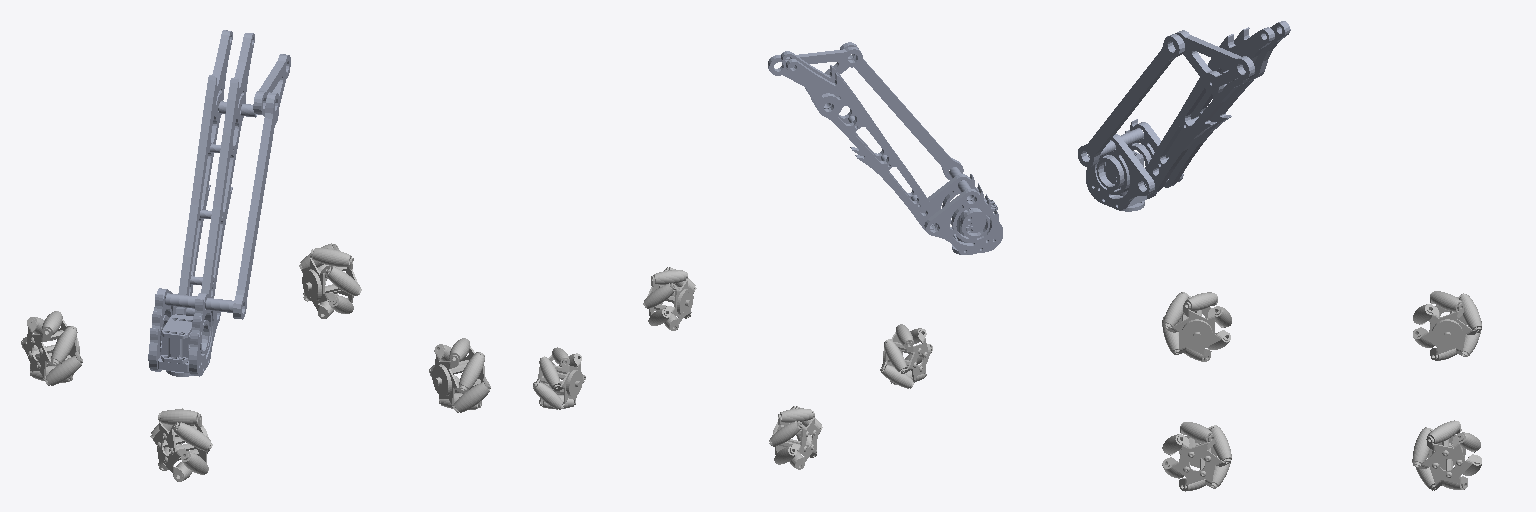
The robot description file, URDF, robot "robot":
<robot
  name="robot">
  <link
    name="base_link">
    <inertial>
      <origin
        xyz="-0.000264760661064783 0.00664648963349924 0.000264762912808713"
        rpy="0 0 0" />
      <mass
        value="1.15919256315212" />
      <inertia
        ixx="0.0067094003476943"
        ixy="-2.34510261921351E-06"
        ixz="2.76425784672043E-05"
        iyy="0.0107618075316179"
        iyz="2.34511530954424E-06"
        izz="0.00471279526237124" />
    </inertial>
    <visual>
      <origin
        xyz="0 0 0"
        rpy="0 0 0" />
      <geometry>
        <mesh
          filename="package://robot/meshes/base_link.STL" />
      </geometry>
      <material
        name="">
        <color
          rgba="1 1 1 0.3" />
      </material>
    </visual>
    <collision>
      <origin
        xyz="0 0 0"
        rpy="0 0 0" />
      <geometry>
        <mesh
          filename="package://robot/meshes/base_link_col.STL" />
      </geometry>
    </collision>
  </link>
  <link
    name="FLWheel">
    <inertial>
      <origin
        xyz="0.00388945308315219 4.79531763399738E-06 -1.38067043967127E-06"
        rpy="0 0 0" />
      <mass
        value="0.0736541264322109" />
      <inertia
        ixx="2.77194970489744E-05"
        ixy="-3.49012075170458E-09"
        ixz="9.77296011958984E-10"
        iyy="1.93054417330485E-05"
        iyz="-8.00993708107148E-10"
        izz="1.93080458554619E-05" />
    </inertial>
    <visual>
      <origin
        xyz="0 0 0"
        rpy="0 0 0" />
      <geometry>
        <mesh
          filename="package://robot/meshes/FLWheel.STL" />
      </geometry>
      <material
        name="">
        <color
          rgba="0.752941176470588 0.752941176470588 0.752941176470588 1" />
      </material>
    </visual>
    <collision>
      <origin
        xyz="0 0 0"
        rpy="0 0 0" />
      <geometry>
        <mesh
          filename="package://robot/meshes/FLWheel_col.STL" />
      </geometry>
    </collision>
  </link>
  <joint
    name="FLWheelCont"
    type="continuous">
    <origin
      xyz="0.1171 -0.099064 -0.040162"
      rpy="1.5708 0 0" />
    <parent
      link="base_link" />
    <child
      link="FLWheel" />
    <axis
      xyz="1 0 0" />
  </joint>
  <link
    name="FRWheel">
    <inertial>
      <origin
        xyz="-0.238089456274567 3.97925711011909E-06 2.9933165490853E-06"
        rpy="0 0 0" />
      <mass
        value="0.0736541281508339" />
      <inertia
        ixx="2.77194939807717E-05"
        ixy="2.89824828067423E-09"
        ixz="2.20292420934118E-09"
        iyy="1.93063135407214E-05"
        iyz="1.46689816627202E-09"
        izz="1.93071731398088E-05" />
    </inertial>
    <visual>
      <origin
        xyz="0 0 0"
        rpy="0 0 0" />
      <geometry>
        <mesh
          filename="package://robot/meshes/FRWheel.STL" />
      </geometry>
      <material
        name="">
        <color
          rgba="0.752941176470588 0.752941176470588 0.752941176470588 1" />
      </material>
    </visual>
    <collision>
      <origin
        xyz="0 0 0"
        rpy="0 0 0" />
      <geometry>
        <mesh
          filename="package://robot/meshes/FRWheel_col.STL" />
      </geometry>
    </collision>
  </link>
  <joint
    name="FRWheelCont"
    type="continuous">
    <origin
      xyz="0.1171 -0.09906355201 -0.0401615"
      rpy="1.5707963267949 0 0" />
    <parent
      link="base_link" />
    <child
      link="FRWheel" />
    <axis
      xyz="1 0 0" />
  </joint>
  <link
    name="BLWheel">
    <inertial>
      <origin
        xyz="0.00388945627456712 3.97925711014685E-06 -2.99331654884938E-06"
        rpy="0 0 0" />
      <mass
        value="0.0736541281508339" />
      <inertia
        ixx="2.77194939807717E-05"
        ixy="-2.89824828068812E-09"
        ixz="2.2029242093398E-09"
        iyy="1.93063135407214E-05"
        iyz="-1.46689816627361E-09"
        izz="1.93071731398088E-05" />
    </inertial>
    <visual>
      <origin
        xyz="0 0 0"
        rpy="0 0 0" />
      <geometry>
        <mesh
          filename="package://robot/meshes/BLWheel.STL" />
      </geometry>
      <material
        name="">
        <color
          rgba="0.752941176470588 0.752941176470588 0.752941176470588 1" />
      </material>
    </visual>
    <collision>
      <origin
        xyz="0 0 0"
        rpy="0 0 0" />
      <geometry>
        <mesh
          filename="package://robot/meshes/BLWheel_col.STL" />
      </geometry>
    </collision>
  </link>
  <joint
    name="BLWheelCont"
    type="continuous">
    <origin
      xyz="0.1171 0.0990635520100003 -0.0401615"
      rpy="1.5707963267949 0 0" />
    <parent
      link="base_link" />
    <child
      link="BLWheel" />
    <axis
      xyz="0 0 0" />
  </joint>
  <link
    name="BRWheel">
    <inertial>
      <origin
        xyz="-0.00636445308315207 4.79531763405289E-06 1.38067043978229E-06"
        rpy="0 0 0" />
      <mass
        value="0.0736541264322109" />
      <inertia
        ixx="2.77194970489743E-05"
        ixy="3.49012075168172E-09"
        ixz="9.77296011957692E-10"
        iyy="1.93054417330485E-05"
        iyz="8.00993708090894E-10"
        izz="1.93080458554619E-05" />
    </inertial>
    <visual>
      <origin
        xyz="0 0 0"
        rpy="0 0 0" />
      <geometry>
        <mesh
          filename="package://robot/meshes/BRWheel.STL" />
      </geometry>
      <material
        name="">
        <color
          rgba="0.752941176470588 0.752941176470588 0.752941176470588 1" />
      </material>
    </visual>
    <collision>
      <origin
        xyz="0 0 0"
        rpy="0 0 0" />
      <geometry>
        <mesh
          filename="package://robot/meshes/BRWheel_col.STL" />
      </geometry>
    </collision>
  </link>
  <joint
    name="BRWheelCont"
    type="continuous">
    <origin
      xyz="-0.114625 0.09906355201 -0.0401615"
      rpy="1.5707963267949 0 0" />
    <parent
      link="base_link" />
    <child
      link="BRWheel" />
    <axis
      xyz="1 0 0" />
  </joint>
  <link
    name="ArmYRot">
    <inertial>
      <origin
        xyz="0.000681964404144919 0.0310539448648574 -0.0127837530436466"
        rpy="0 0 0" />
      <mass
        value="0.571743531126574" />
      <inertia
        ixx="0.00130664575781196"
        ixy="2.01805366799632E-05"
        ixz="2.44737795526061E-06"
        iyy="0.00169284950533526"
        iyz="5.18921274682049E-05"
        izz="0.00108415740916047" />
    </inertial>
    <visual>
      <origin
        xyz="0 0 0"
        rpy="0 0 0" />
      <geometry>
        <mesh
          filename="package://robot/meshes/ArmYRot.STL" />
      </geometry>
      <material
        name="">
        <color
          rgba="0.666666666666667 0.694117647058824 0.764705882352941 1" />
      </material>
    </visual>
    <collision>
      <origin
        xyz="0 0 0"
        rpy="0 0 0" />
      <geometry>
        <mesh
          filename="package://robot/meshes/ArmYRot_col.STL" />
      </geometry>
    </collision>
  </link>
  <joint
    name="ArmYRotCont"
    type="continuous">
    <origin
      xyz="0 0 0.02266"
      rpy="1.5708 -4.2993E-16 -0.7854" />
    <parent
      link="base_link" />
    <child
      link="ArmYRot" />
    <axis
      xyz="0 -1 0" />
  </joint>
  <link
    name="ArmRot1">
    <inertial>
      <origin
        xyz="0.00851780401293389 0.0652472578677626 0.0130718014658456"
        rpy="0 0 0" />
      <mass
        value="0.247629627425225" />
      <inertia
        ixx="0.00083952384826181"
        ixy="5.66840333807547E-05"
        ixz="-2.23733251784933E-05"
        iyy="0.000383812124258634"
        iyz="0.000139676728992712"
        izz="0.000756587555727813" />
    </inertial>
    <visual>
      <origin
        xyz="0 0 0"
        rpy="0 0 0" />
      <geometry>
        <mesh
          filename="package://robot/meshes/ArmRot1.STL" />
      </geometry>
      <material
        name="">
        <color
          rgba="0.666666666666667 0.694117647058824 0.764705882352941 1" />
      </material>
    </visual>
    <collision>
      <origin
        xyz="0 0 0"
        rpy="0 0 0" />
      <geometry>
        <mesh
          filename="package://robot/meshes/ArmRot1_col.STL" />
      </geometry>
    </collision>
  </link>
  <joint
    name="ArmRot1Rev"
    type="revolute">
    <origin
      xyz="1.143E-05 0.057267 0.020728"
      rpy="-7.3956E-32 -1.1102E-16 1.7931E-21" />
    <parent
      link="ArmYRot" />
    <child
      link="ArmRot1" />
    <axis
      xyz="1 0 0" />
    <limit
      lower="0"
      upper="0"
      effort="10"
      velocity="1" />
  </joint>
  <link
    name="ArmRot2">
    <inertial>
      <origin
        xyz="0.00563335405046204 -0.0743495625672852 0.0774120463323625"
        rpy="0 0 0" />
      <mass
        value="0.274282093236145" />
      <inertia
        ixx="0.00181284257514748"
        ixy="5.21711953619901E-05"
        ixz="8.55557751729304E-06"
        iyy="0.000875758646833159"
        iyz="-0.000829845988777018"
        izz="0.00111595357767381" />
    </inertial>
    <visual>
      <origin
        xyz="0 0 0"
        rpy="0 0 0" />
      <geometry>
        <mesh
          filename="package://robot/meshes/ArmRot2.STL" />
      </geometry>
      <material
        name="">
        <color
          rgba="0.666666666666667 0.694117647058824 0.764705882352941 1" />
      </material>
    </visual>
    <collision>
      <origin
        xyz="0 0 0"
        rpy="0 0 0" />
      <geometry>
        <mesh
          filename="package://robot/meshes/ArmRot2_col.STL" />
      </geometry>
    </collision>
  </link>
  <joint
    name="ArmRot2Rev"
    type="revolute">
    <origin
      xyz="-1.143E-05 0.13289 0.065139"
      rpy="4.9304E-32 0 6.1824E-18" />
    <parent
      link="ArmRot1" />
    <child
      link="ArmRot2" />
    <axis
      xyz="1 0 0" />
    <limit
      lower="0"
      upper="0"
      effort="10"
      velocity="1" />
  </joint>

  <gazebo reference="FLWheel">
      <material>Gazebo/Gold</material>
  </gazebo>
  <gazebo reference="FRWheel">
      <material>Gazebo/Gold</material>
  </gazebo>
  <gazebo reference="BLWheel">
      <material>Gazebo/Gold</material>
  </gazebo>
  <gazebo reference="BRWheel">
      <material>Gazebo/Gold</material>
  </gazebo>

  <gazebo reference="base_link">
      <material>Gazebo/Blue</material>
  </gazebo>

  <gazebo reference="ArmYRot">
      <material>Gazebo/Gold</material>
  </gazebo>
  <gazebo reference="ArmRot1">
      <material>Gazebo/Blue</material>
  </gazebo>
  <gazebo reference="ArmRot2">
      <material>Gazebo/Gold</material>
  </gazebo>

  <gazebo>
      <plugin name="object_controller" filename="libgazebo_ros_planar_move.so">
        <commandTopic>desired_velocity</commandTopic>
        <odometryTopic>odom</odometryTopic>
        <odometryFrame>odom</odometryFrame>
        <odometryRate>20.0</odometryRate>
        <robotBaseFrame>base_link</robotBaseFrame>
      </plugin>
 </gazebo>

</robot>


--- Render facts (derived) ---
The picture shows the robot from 3 angles, left to right: view 1: azimuth 30°, elevation 25°; view 2: azimuth 150°, elevation 25°; view 3: azimuth 270°, elevation 25°; orthographic projection.
Robot: robot — 8 links, 7 joints (2 revolute, 5 continuous); root link base_link; default pose: every joint at zero.
Visible links, largest first — view 1: ArmRot2, FLWheel, FRWheel, BLWheel, BRWheel; view 2: ArmRot2, BRWheel, BLWheel, FRWheel, FLWheel; view 3: ArmRot2, BLWheel, FRWheel, FLWheel, BRWheel.
Boxes of the visible links, <box> form: ArmRot2: <box>148,30,290,376</box>; FLWheel: <box>429,338,490,412</box>; FRWheel: <box>150,408,212,481</box>; BLWheel: <box>299,243,361,318</box>; BRWheel: <box>21,311,82,385</box>; ArmRot2: <box>768,42,1002,254</box>; BRWheel: <box>769,406,822,469</box>; BLWheel: <box>533,347,585,409</box>; FRWheel: <box>880,324,932,388</box>; FLWheel: <box>643,267,696,330</box>; ArmRot2: <box>1078,21,1290,211</box>; BLWheel: <box>1412,420,1481,490</box>; FRWheel: <box>1162,292,1231,361</box>; FLWheel: <box>1162,422,1231,491</box>; BRWheel: <box>1413,291,1481,360</box>.
Size in the robot's own frame: 0.3257 by 0.3206 by 0.3296 metres.
5 mesh visuals loaded from 8 distinct referenced files (5 binary STL); not drawn: 3 (reference not matched to a file when rendering).